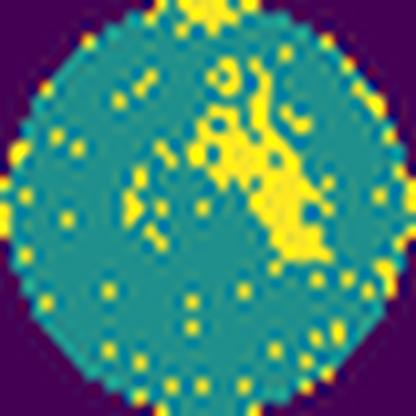Loc: (187, 55, 333, 266), (174, 0, 238, 27)
